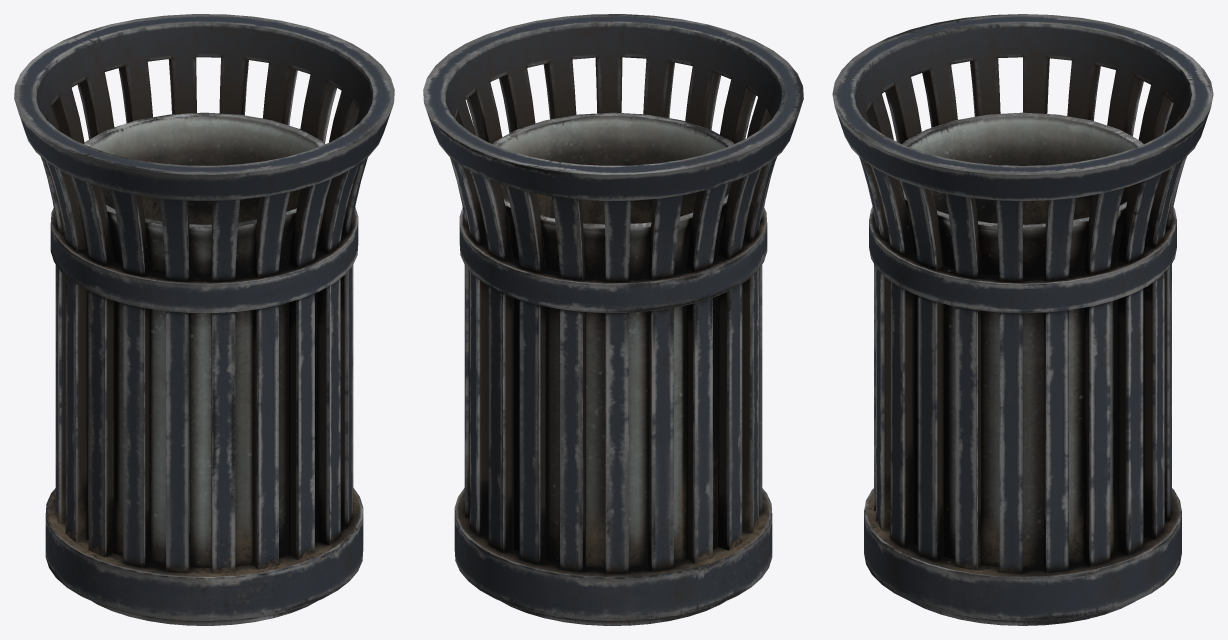
Rendered from obj_trash_bin_f3db8d.glb.
The picture shows the model from 3 angles, left to right: view 1: azimuth 30°, elevation 25°; view 2: azimuth 150°, elevation 25°; view 3: azimuth 270°, elevation 25°; orthographic projection.
Parts seen in each view (by area): view 1: obj_trash_bin_f3db8d; view 2: obj_trash_bin_f3db8d; view 3: obj_trash_bin_f3db8d.
Boxes of the visible parts, x1,y1,x2,y2 form: obj_trash_bin_f3db8d: (14,14,394,625); obj_trash_bin_f3db8d: (423,14,803,625); obj_trash_bin_f3db8d: (832,14,1213,625).
Size of the model in its own units: 0.4381 by 0.6 by 0.4381.
2 materials, 2 textured.
